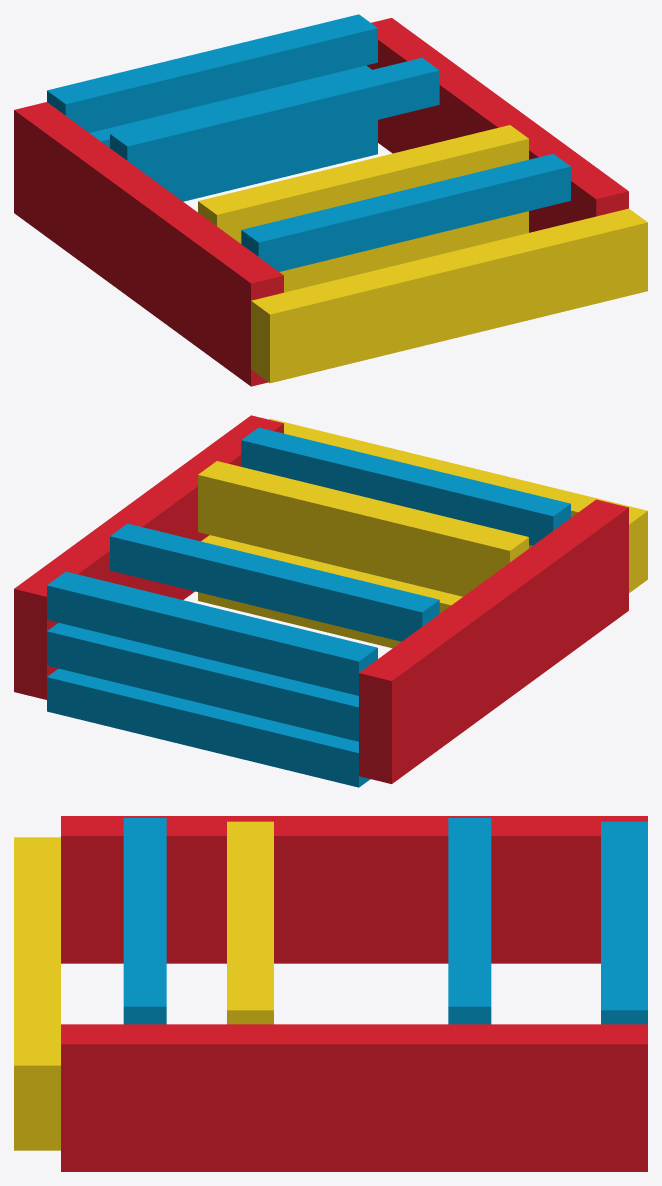
Rendered from tinker.obj.
3 views of the same model, one above another, from view 1: azimuth 30°, elevation 25°; view 2: azimuth 150°, elevation 25°; view 3: azimuth 270°, elevation 25° (orthographic). The views are drawn at different scales.
Parts seen in each view (by area): view 1: group_0_40919, group_0_16768282, group_0_15277357; view 2: group_0_40919, group_0_15277357, group_0_16768282; view 3: group_0_15277357, group_0_40919, group_0_16768282.
Boxes of the visible parts, left/top/right/bottom form: group_0_40919: left=47, top=14, right=570, bottom=271; group_0_16768282: left=198, top=125, right=647, bottom=383; group_0_15277357: left=14, top=18, right=628, bottom=386; group_0_40919: left=47, top=427, right=570, bottom=787; group_0_15277357: left=14, top=415, right=628, bottom=783; group_0_16768282: left=198, top=418, right=647, bottom=648; group_0_15277357: left=61, top=816, right=647, bottom=1171; group_0_40919: left=123, top=818, right=647, bottom=1024; group_0_16768282: left=14, top=821, right=273, bottom=1150.
Bounding box in the file's own units: 138 × 45 × 162.
